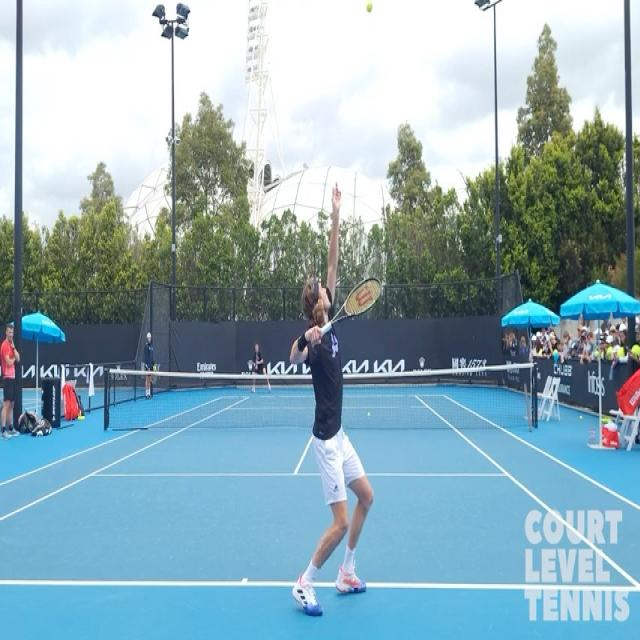serve_hit: (292, 173, 402, 614)
